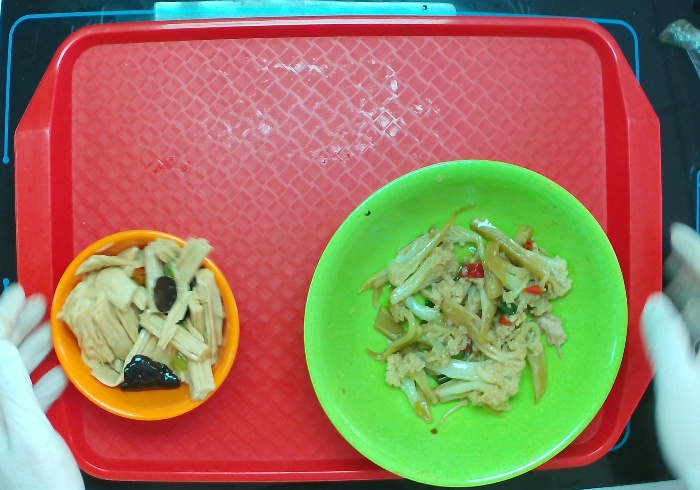YKMZ-Ju_Se_Yuan_Wan: (48, 227, 242, 425)
YKMZ-Lv_Se_Tang_Wan: (299, 158, 629, 490)
